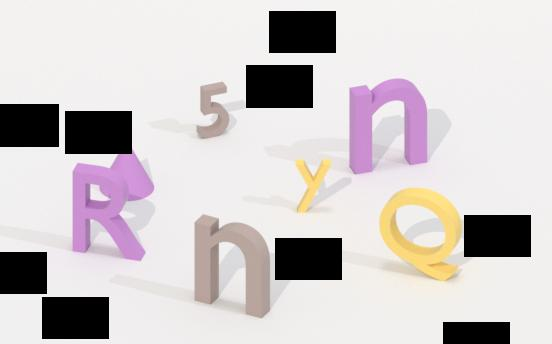5: (196, 81, 231, 142)
R-hoa: (69, 159, 152, 266)
Y: (294, 155, 333, 218)
n: (190, 210, 274, 321), (346, 76, 430, 175)
non: (98, 139, 155, 201)
q: (377, 183, 463, 287)
